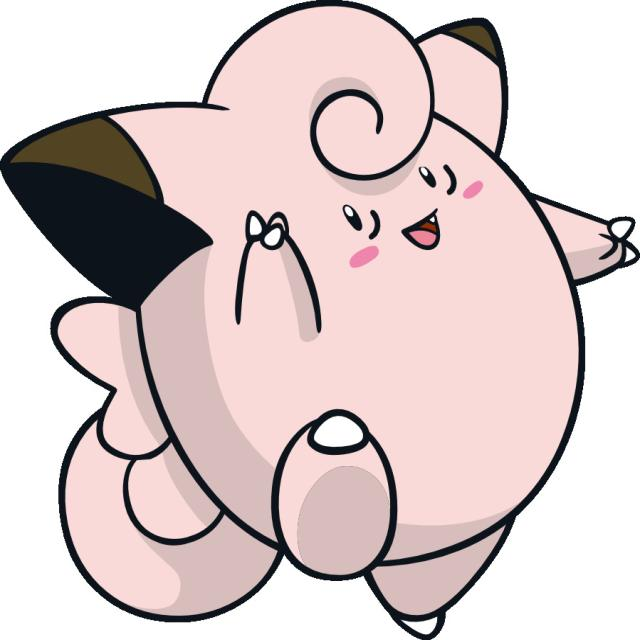Clefairy: (5, 2, 629, 640)
